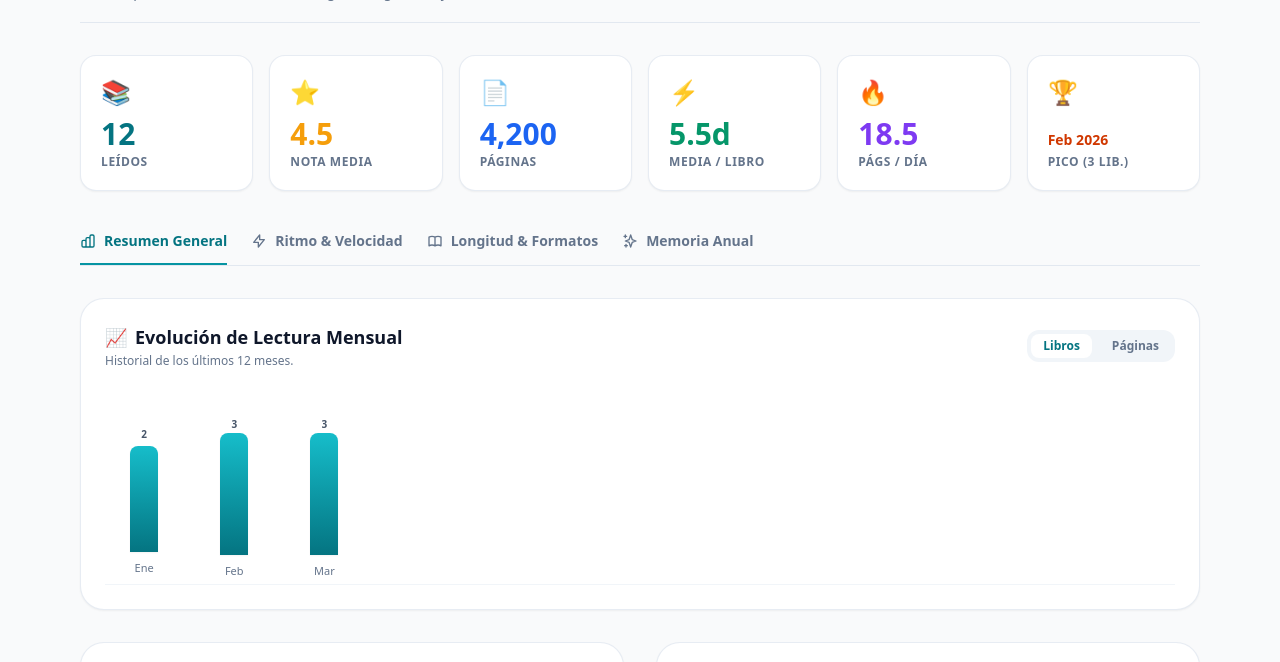
ReadingStats Component › switches to pace tab and displays speed metrics and extreme books
// Cambiar a la pestaña "Ritmo & Velocidad"
Click the tab "Ritmo & Velocidad": coordinates (327, 244) [251, 223, 403, 265]
(page scrolled)
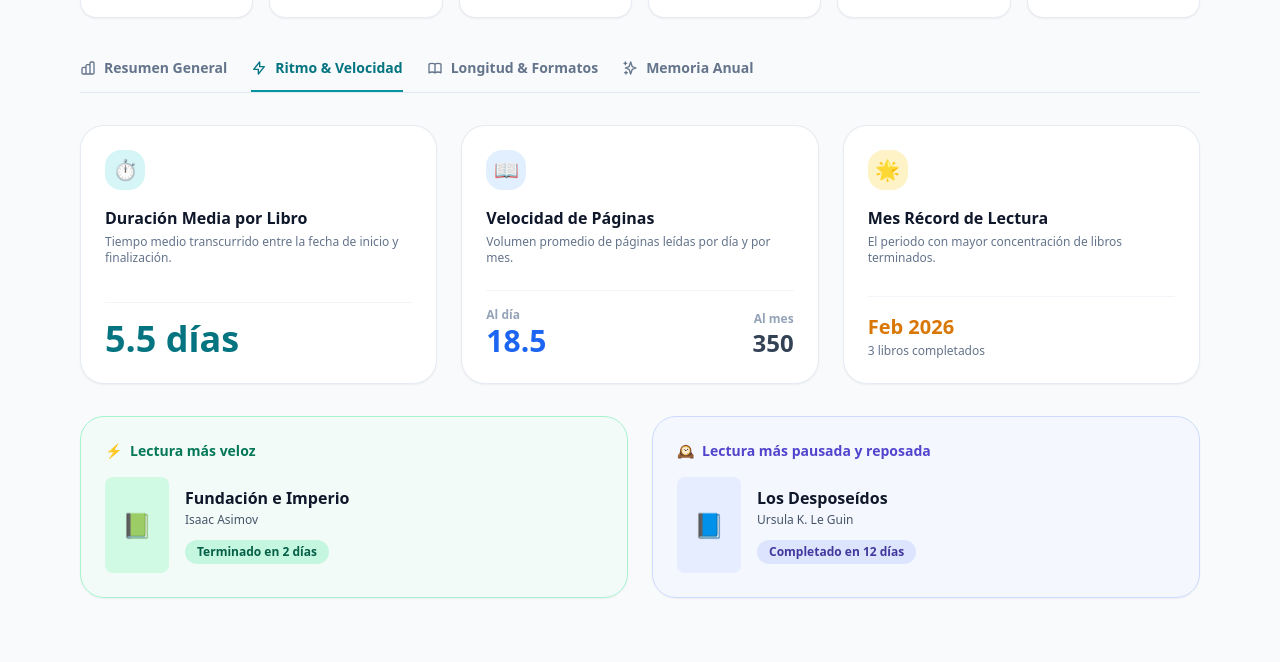
Now the heading "Duración Media por Libro" is shown, box [105, 207, 307, 229]
Now the text "5.5 días" is shown, box [105, 314, 239, 363]
Now the heading "Velocidad de Páginas" is shown, box [486, 207, 654, 229]
